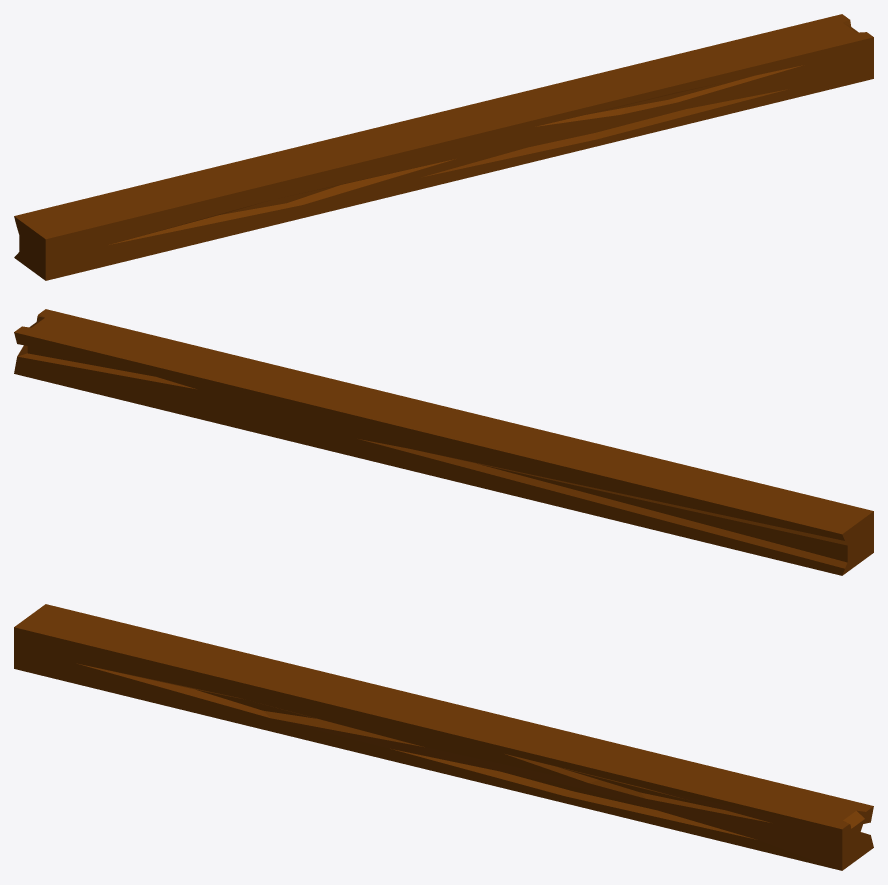
File: Interior_Beam1.fbx
The picture shows the model from 3 angles, top to bottom: view 1: azimuth 30°, elevation 25°; view 2: azimuth 150°, elevation 25°; view 3: azimuth 330°, elevation 25°; orthographic projection.
Parts seen in each view (by area): view 1: Interior_Beam1; view 2: Interior_Beam1; view 3: Interior_Beam1.
Part boxes in pixels (x1=…): Interior_Beam1: x1=14, y1=14, x2=873, y2=280; Interior_Beam1: x1=14, y1=309, x2=873, y2=575; Interior_Beam1: x1=14, y1=604, x2=873, y2=870.
Bounding box in the file's own units: 200 × 9.6 × 13.31.
